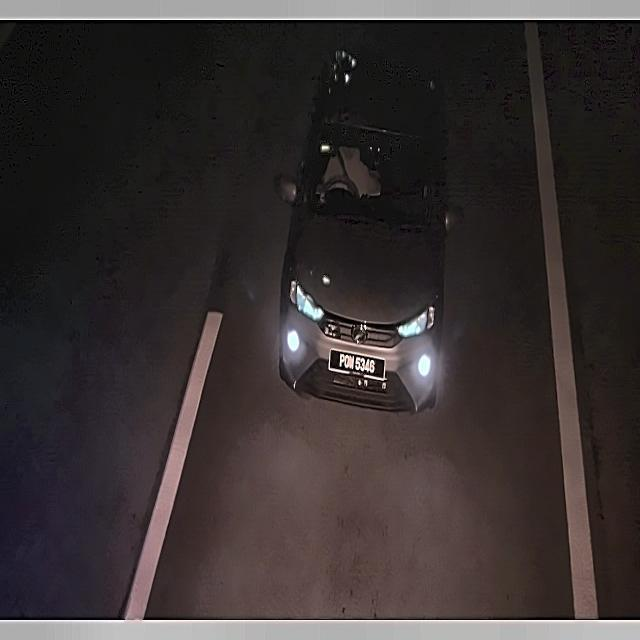car: (326, 342, 394, 384)
